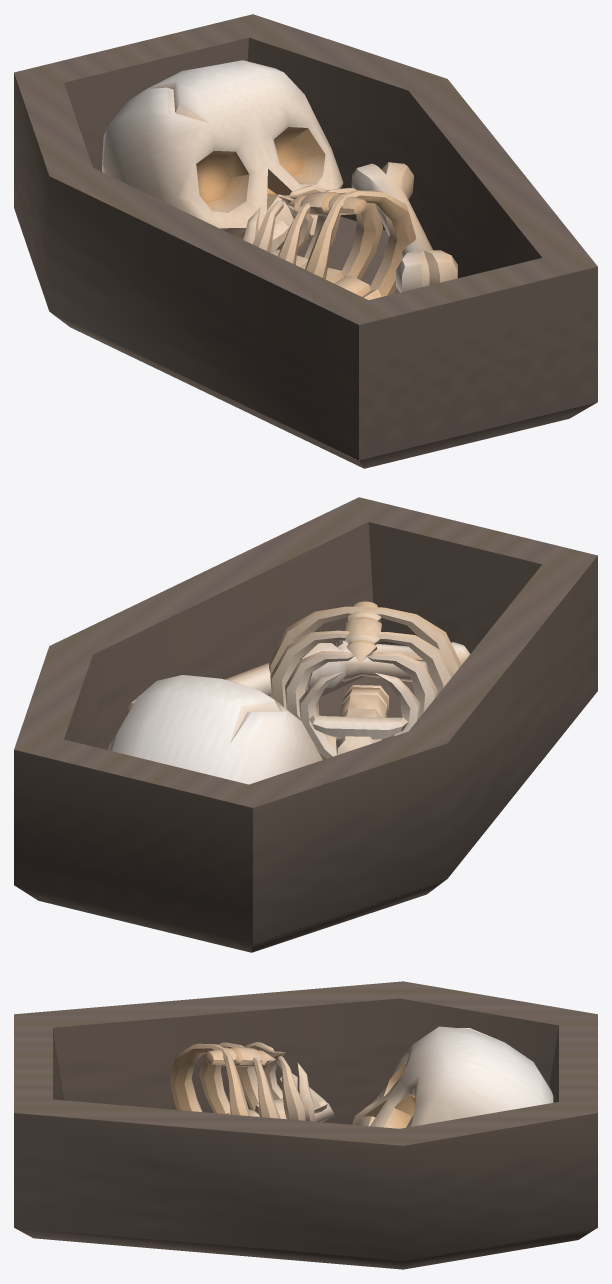
Rendered from coffin-decorated.glb.
3 views of the same model, one above another, from view 1: azimuth 30°, elevation 25°; view 2: azimuth 150°, elevation 25°; view 3: azimuth 270°, elevation 25° (orthographic). The views are drawn at different scales.
Visible parts, largest first — view 1: coffin_decorated; view 2: coffin_decorated; view 3: coffin_decorated.
Boxes of the visible parts, bbox=[...] form: coffin_decorated: bbox=[14, 14, 597, 468]; coffin_decorated: bbox=[14, 497, 597, 952]; coffin_decorated: bbox=[14, 981, 597, 1269].
Bounding box in the file's own units: 2 × 0.9025 × 3.
1 material, 1 textured.
